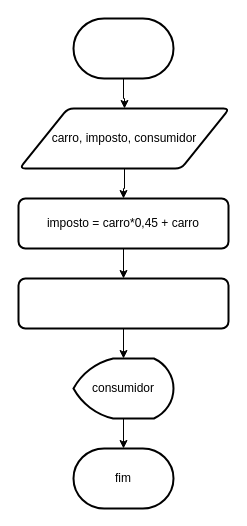
Image size: 247x526. Some labels were removed from this diagram. Each missing label, with the centre of its shape:
"consumidor = imposto*0,28 + imposto" belongs at [123,303].
"inicio" belongs at [123,48].
